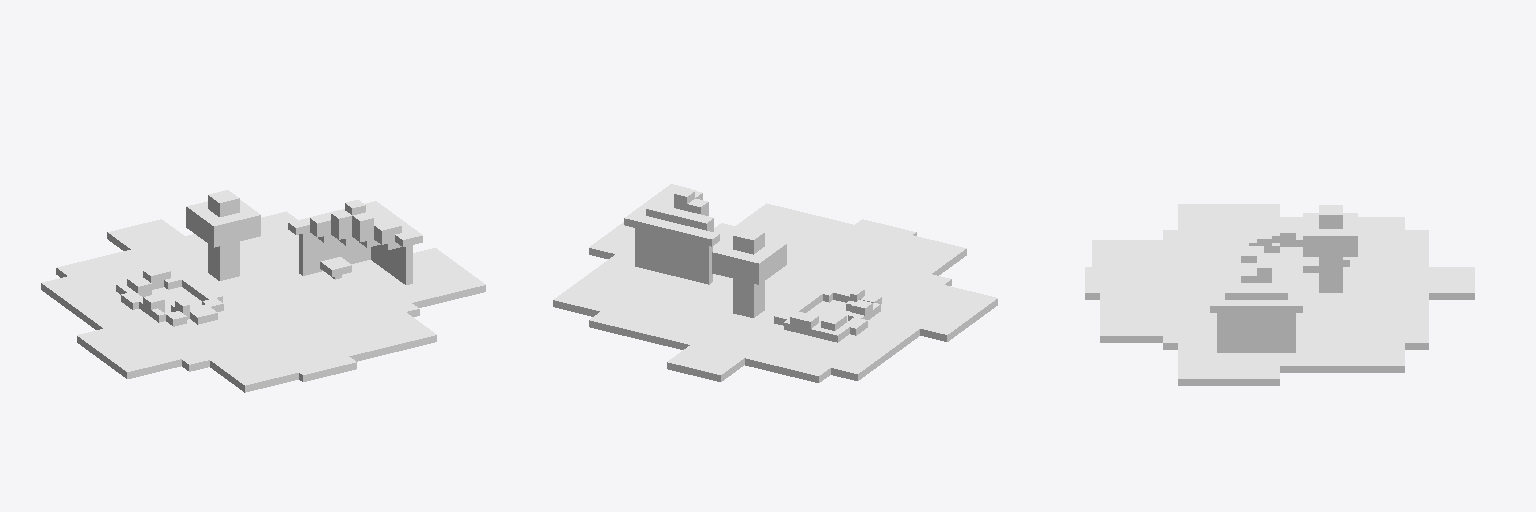
Rendered from test_world_2.obj.
3 renders of one model, left to right at view 1: azimuth 30°, elevation 25°; view 2: azimuth 150°, elevation 25°; view 3: azimuth 270°, elevation 25°, orthographic.
Visible parts, largest first — view 1: object 1; view 2: object 1; view 3: object 1.
Boxes of the visible parts, <box> form: object 1: <box>41,190,485,392</box>; object 1: <box>553,184,997,382</box>; object 1: <box>1085,204,1474,385</box>.
Size of the model in its own units: 21.2 by 4.8 by 20.